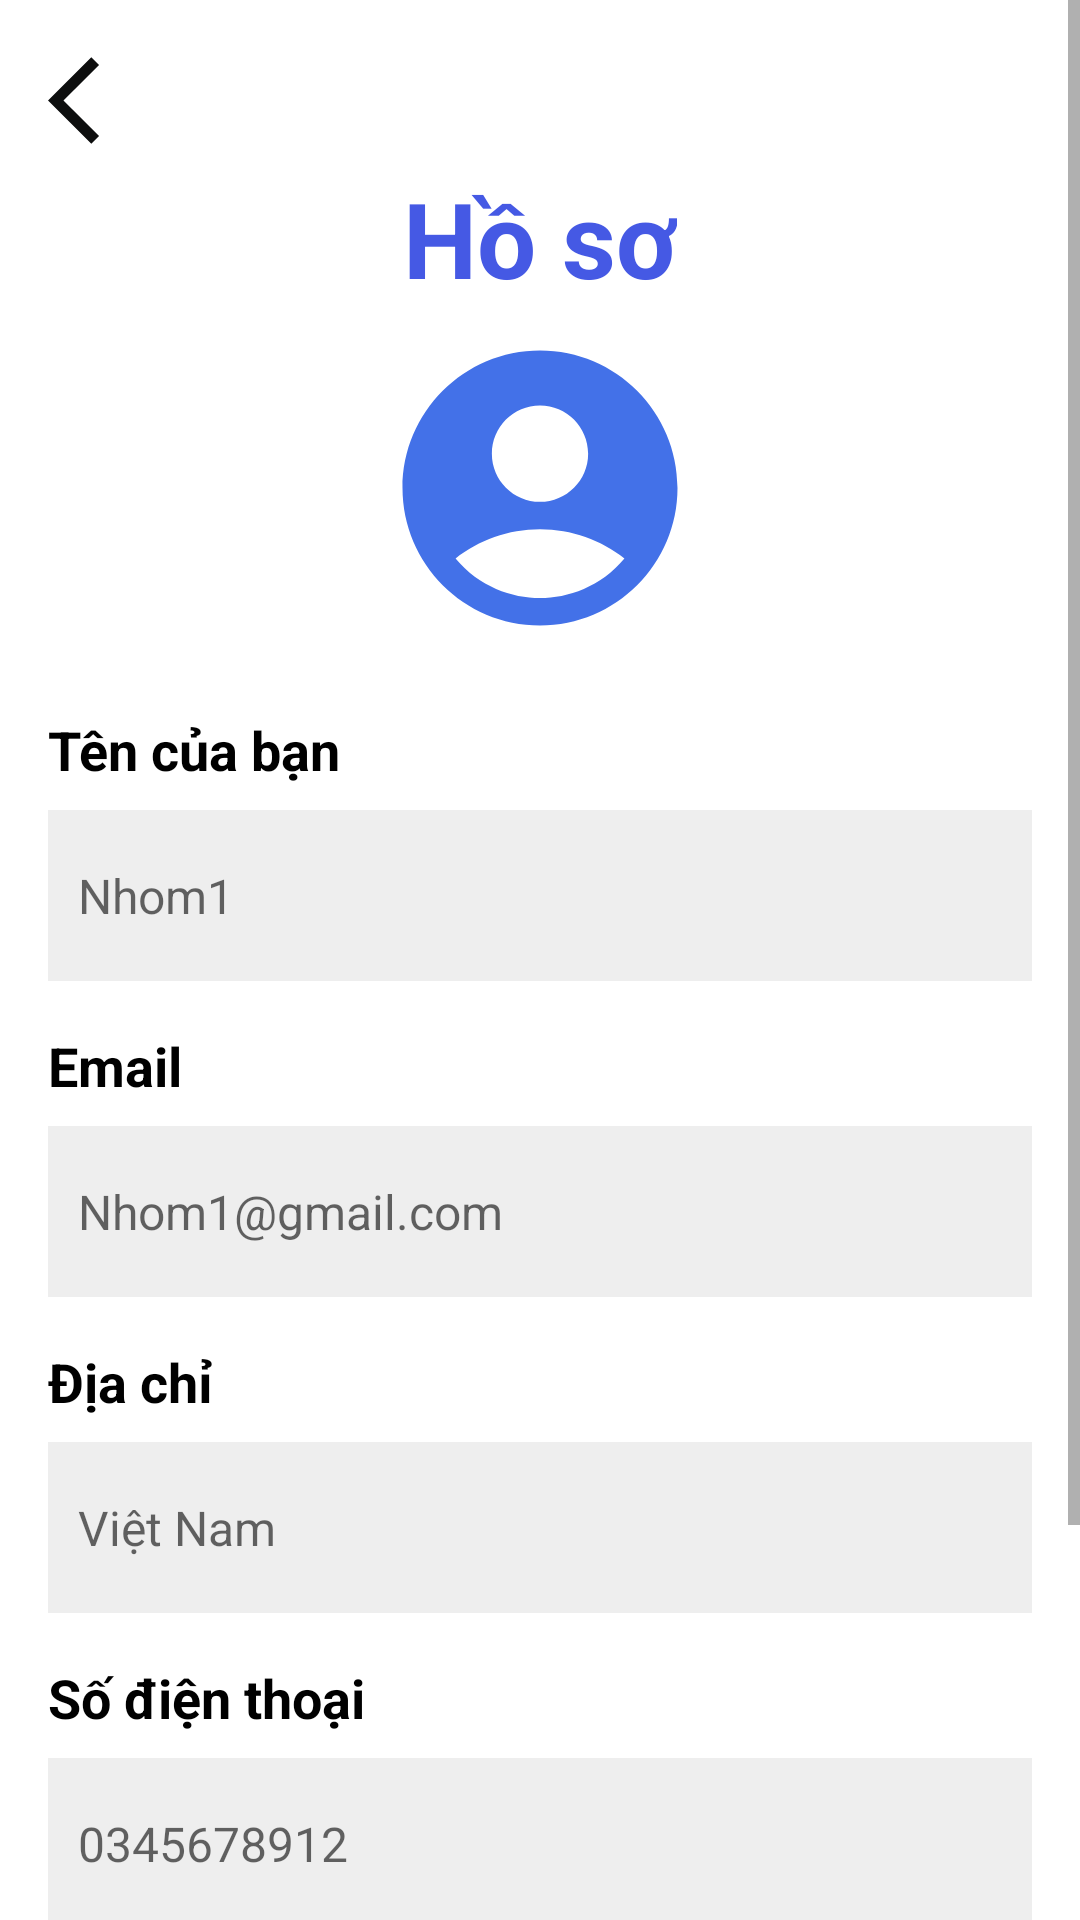

Icon bounding boxes for this 1080×1920 phone screenshot, format (x1, y1, x2, y2):
Avatar: (402, 350, 678, 626)
Quay lại: (48, 57, 99, 144)
